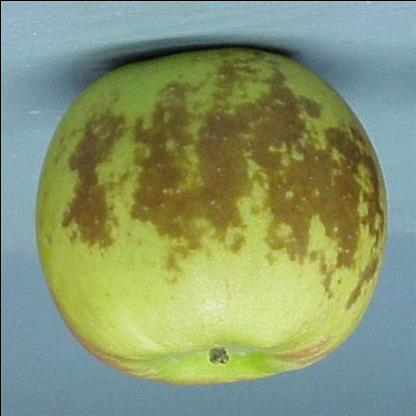defect: (46, 51, 388, 323)
